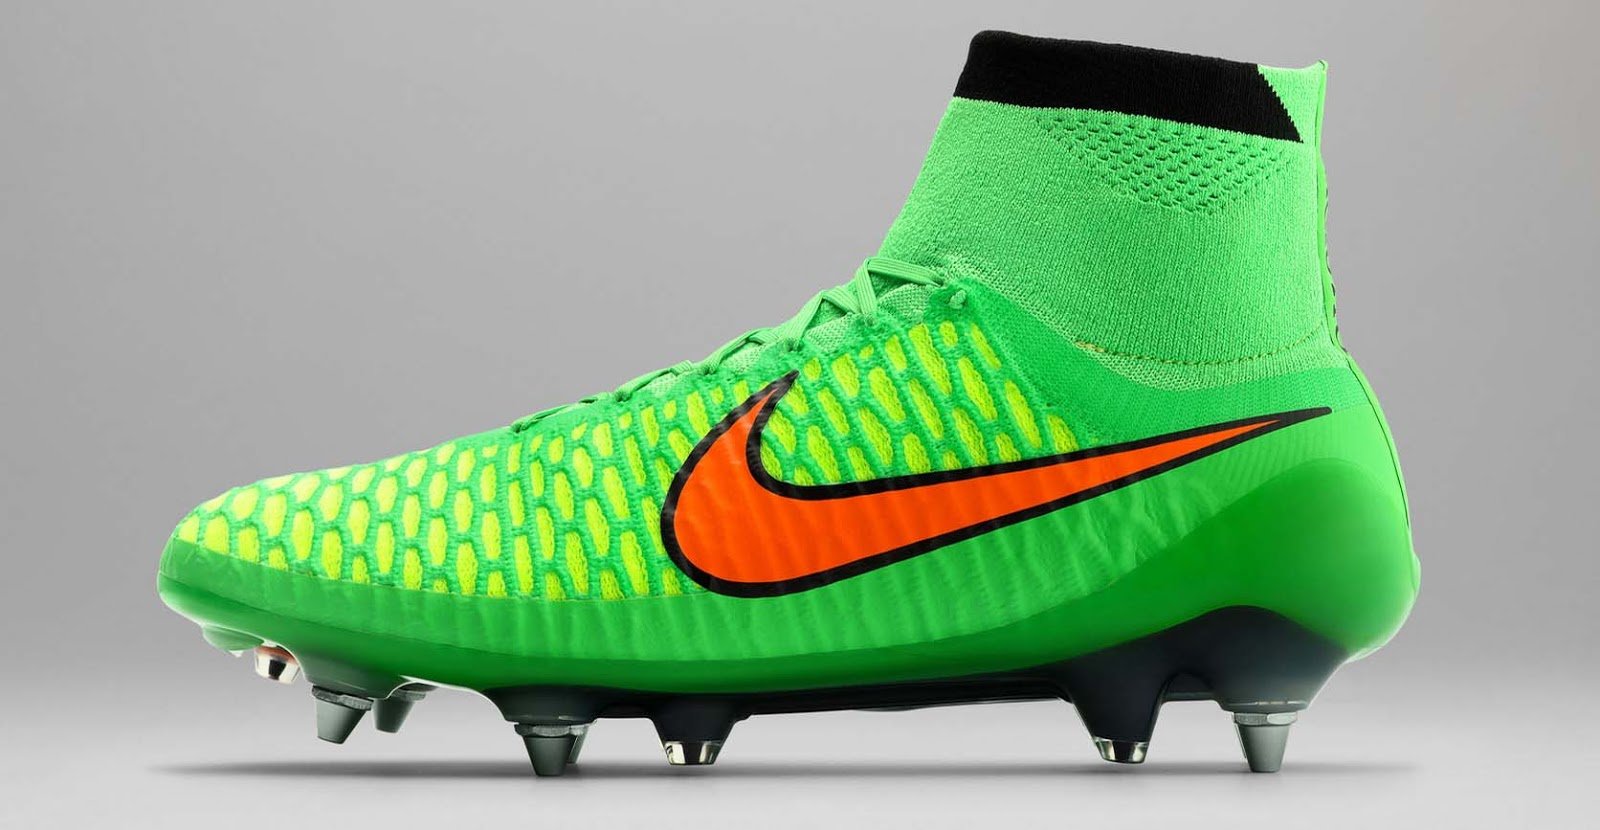football boots: (148, 28, 1419, 782)
